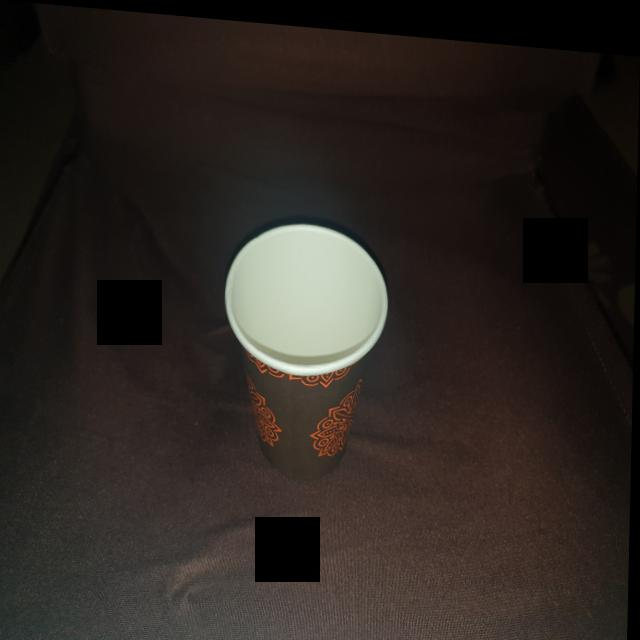cups: (218, 206, 396, 488)
